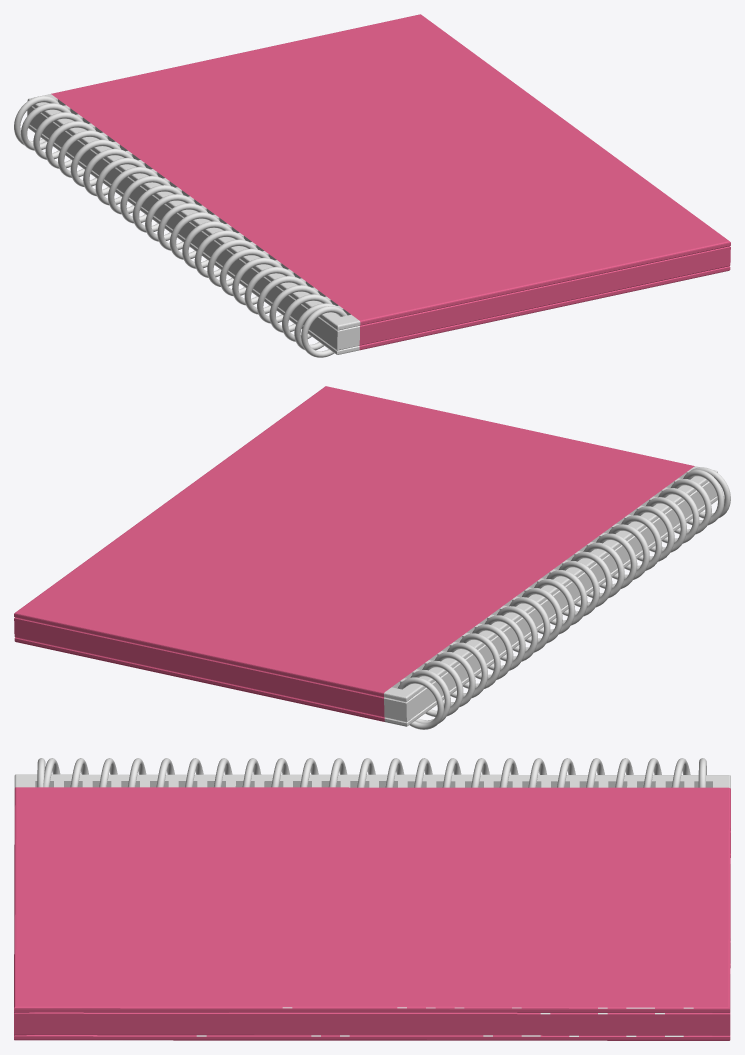
File: notebook.glb
3 views of the same model, one above another, from view 1: azimuth 30°, elevation 25°; view 2: azimuth 150°, elevation 25°; view 3: azimuth 270°, elevation 25° (orthographic). The views are drawn at different scales.
Parts seen in each view (by area): view 1: 16734_notebook_v1_NEW; view 2: 16734_notebook_v1_NEW; view 3: 16734_notebook_v1_NEW.
Boxes of the visible parts, x1=… form: 16734_notebook_v1_NEW: x1=14, y1=14, x2=730, y2=357; 16734_notebook_v1_NEW: x1=14, y1=386, x2=730, y2=729; 16734_notebook_v1_NEW: x1=14, y1=758, x2=730, y2=1040.
Bounding box in the file's own units: 0.2112 × 0.0248 × 0.2722.
